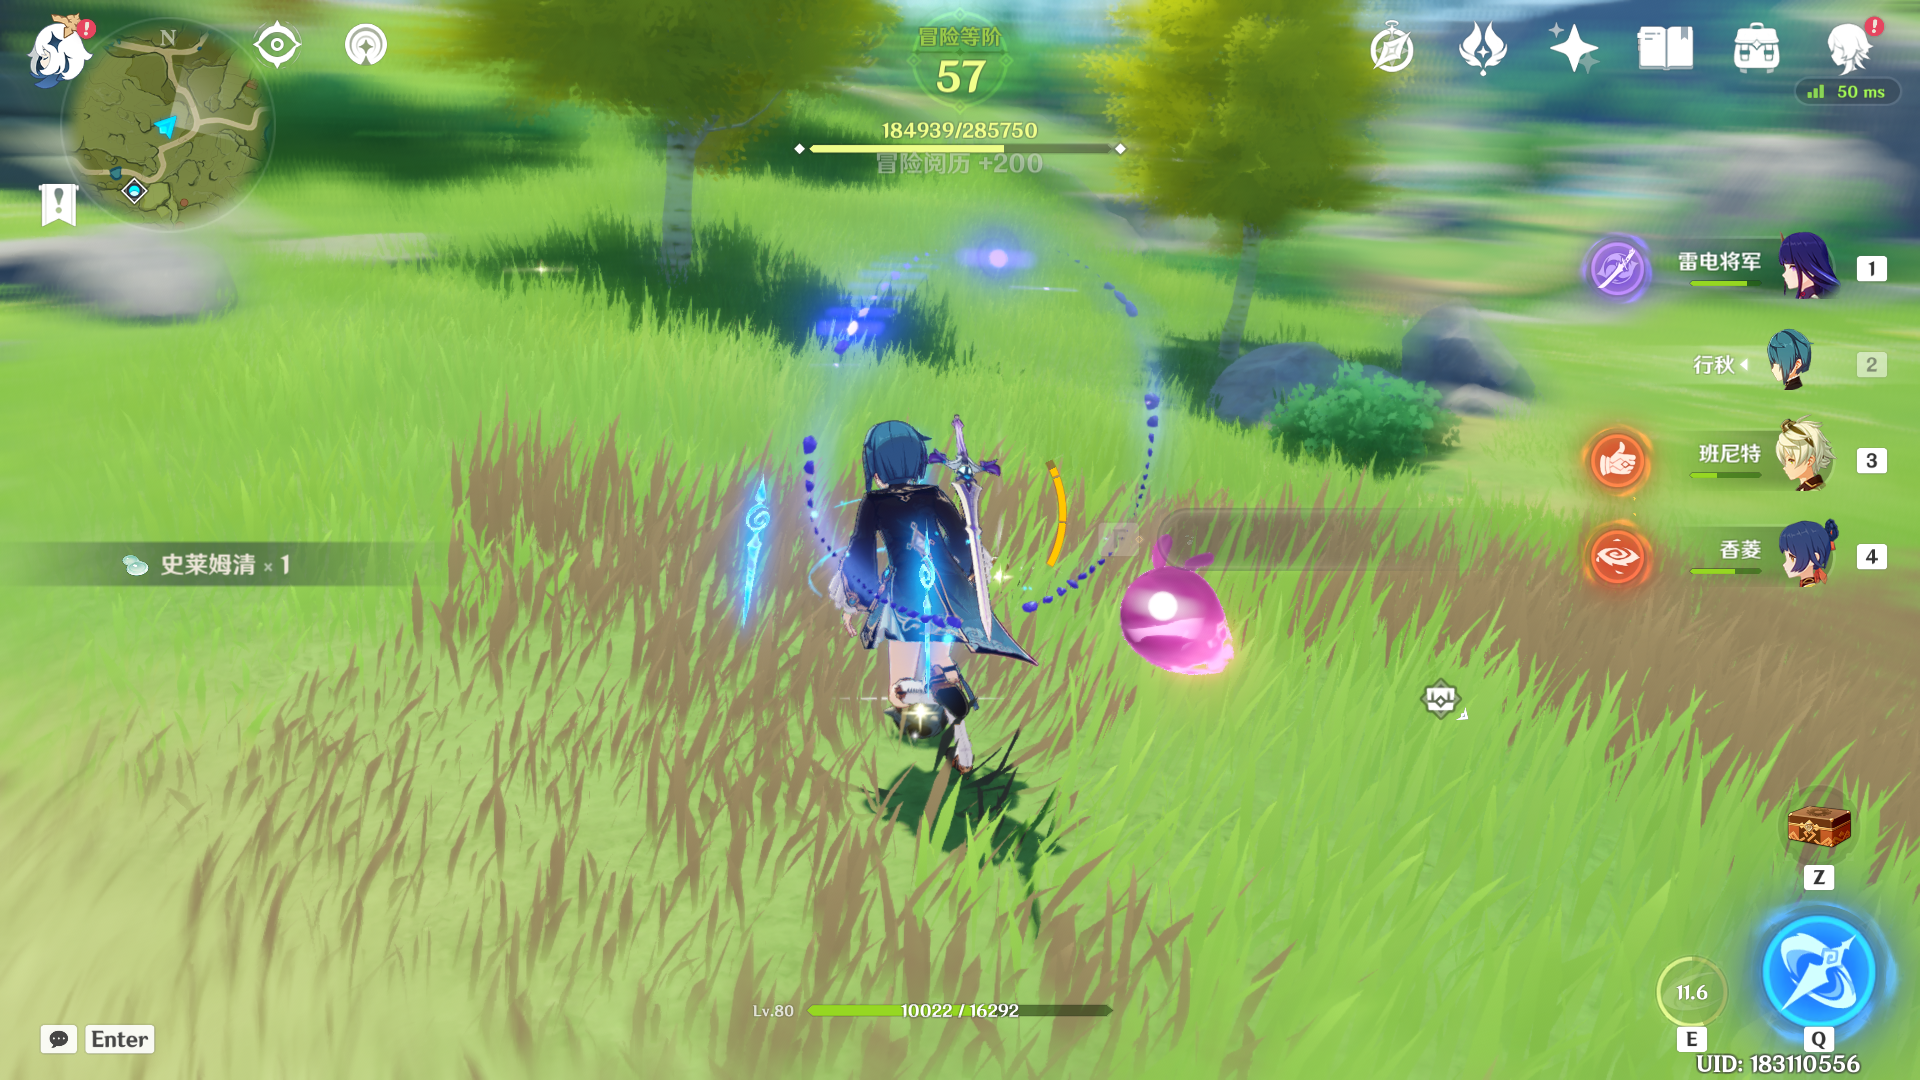character: (775, 392, 1062, 824)
